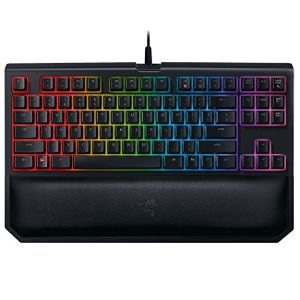keyboard: (4, 45, 295, 249)
